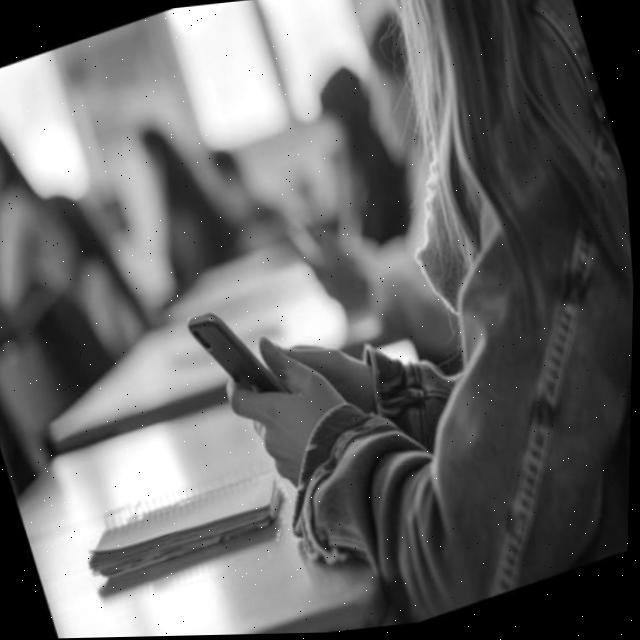phone: (183, 290, 298, 424)
